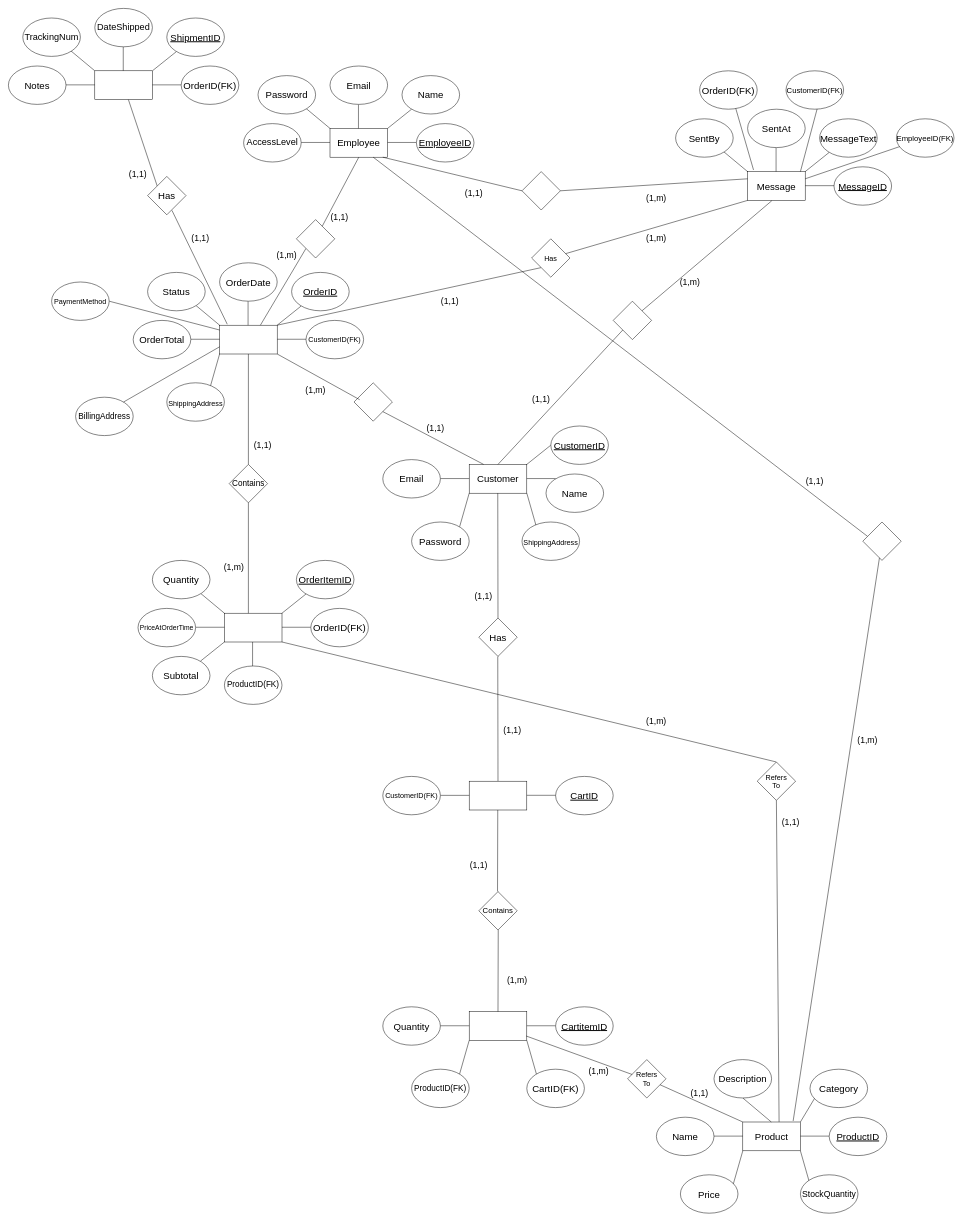
This 962x1222 diagram has some shape labels left out. The shapes that lost their labels are listed below. From the top down, each one's box as (x1, y1, x2, y2) in pixels, then its label:
(94, 70, 152, 100): Shipment
(522, 171, 560, 210): Sends
(296, 219, 335, 258): Processes
(219, 325, 277, 354): Order
(613, 301, 652, 340): Exchanges
(354, 382, 392, 421): Places
(862, 522, 901, 560): Manages
(224, 613, 282, 642): OrderItem
(469, 781, 527, 810): Cart
(469, 1011, 527, 1040): CartI tem
